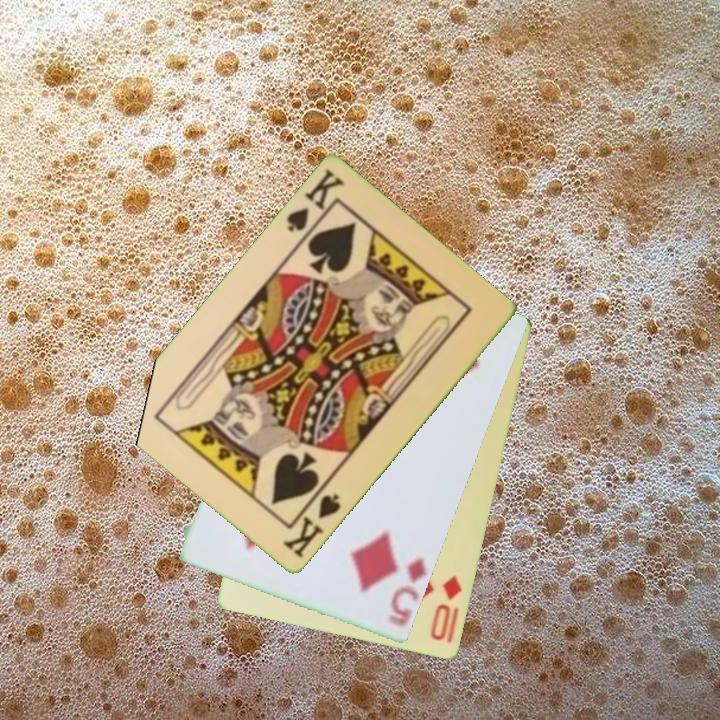10d: (427, 572, 466, 647)
5d: (385, 555, 430, 631)
Ks: (283, 166, 348, 246), (279, 483, 344, 562)
